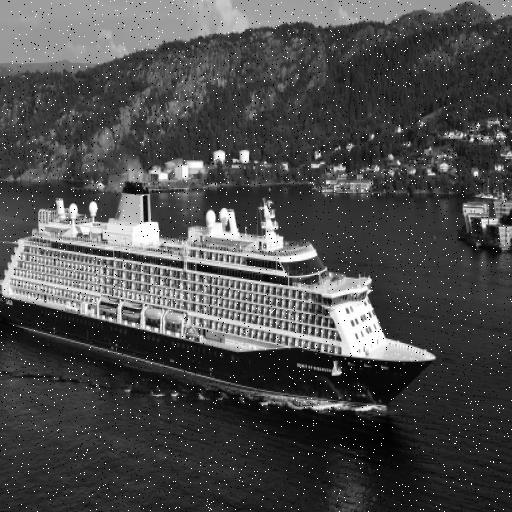cruises: (1, 175, 440, 425)
